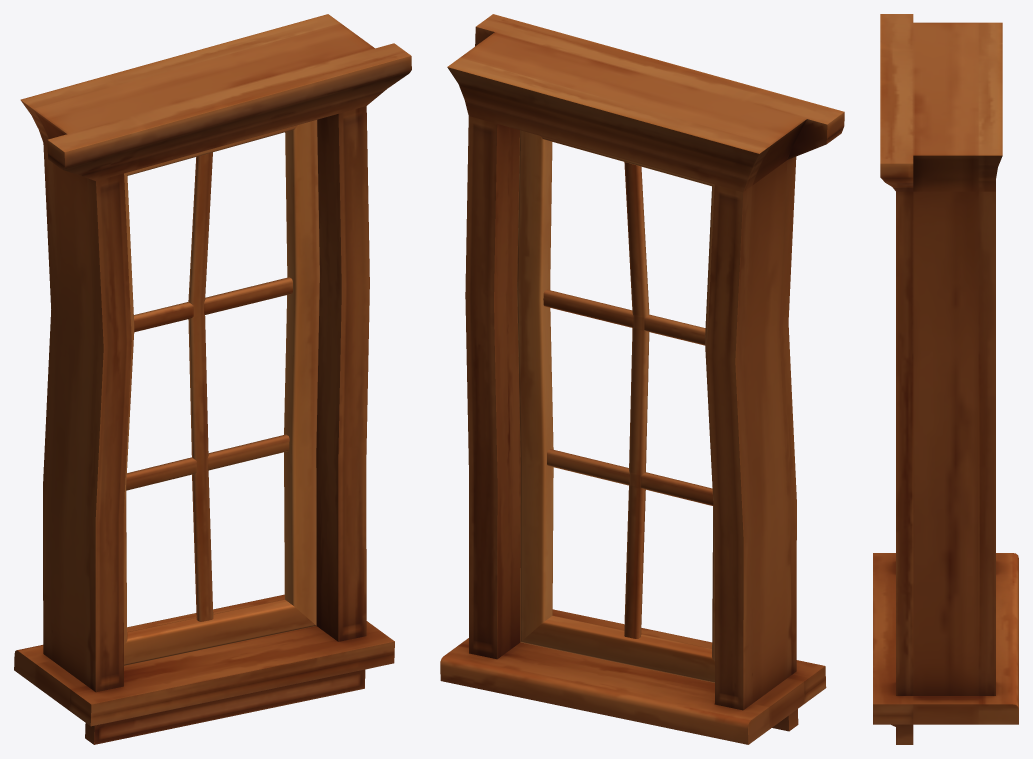
File: PropWindow01TypeF_2_2.FBX
The picture shows the model from 3 angles, left to right: view 1: azimuth 30°, elevation 25°; view 2: azimuth 150°, elevation 25°; view 3: azimuth 270°, elevation 25°; orthographic projection. The views are drawn at different scales.
Parts seen in each view (by area): view 1: PropWindow01TypeF_2_2; view 2: PropWindow01TypeF_2_2; view 3: PropWindow01TypeF_2_2.
Boxes of the visible parts, x1,y1,x2,y2 form: PropWindow01TypeF_2_2: [14, 14, 411, 744]; PropWindow01TypeF_2_2: [440, 14, 844, 744]; PropWindow01TypeF_2_2: [873, 14, 1018, 744].
Size of what is drawn, in the model's own units: 1.16 by 2.02 by 0.4449.
